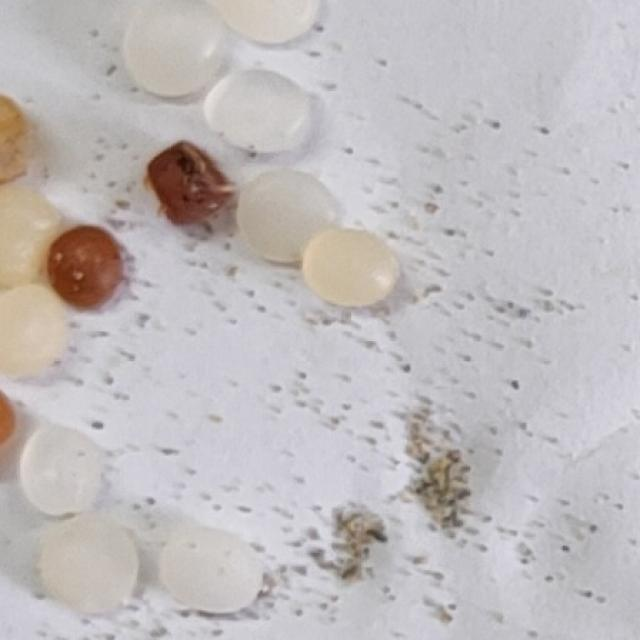beads: (23, 500, 155, 631), (220, 149, 349, 278), (34, 214, 139, 319), (201, 63, 313, 161), (123, 0, 230, 98), (13, 424, 111, 523), (158, 526, 265, 615), (299, 227, 405, 313), (0, 284, 67, 379), (0, 184, 59, 290), (0, 91, 40, 184)
fragments: (133, 131, 239, 238)
